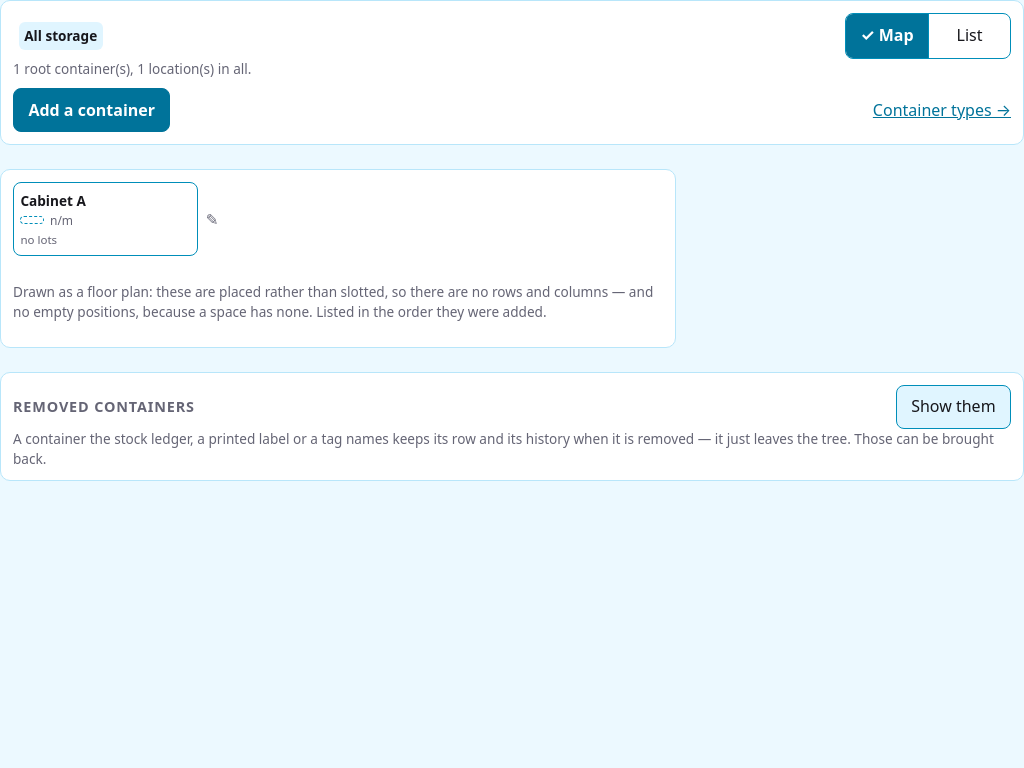
Test: lists a removed container, and links to the page that brings it back
Expected: the button with aria-label "Open: Cabinet A" is shown, [13, 182, 198, 256]
Expected: the text "Cabinet A / Drawer B3" is not shown
Click the button "Show them".
click(953, 407)  # box [896, 385, 1011, 429]
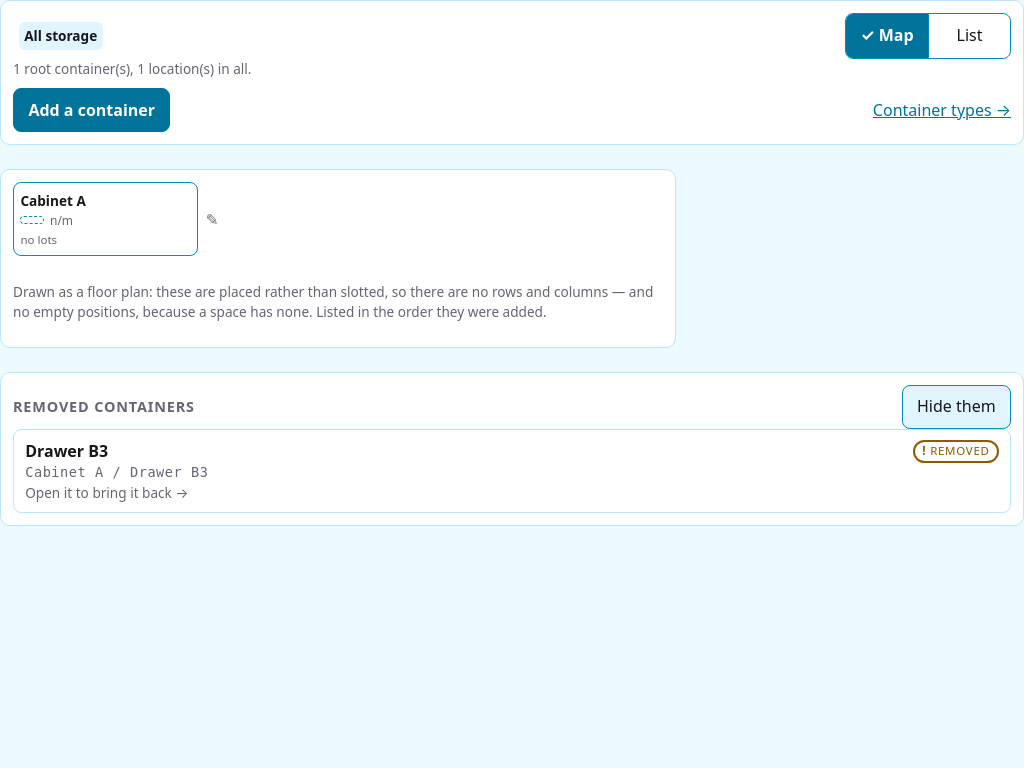
Now the text "Cabinet A / Drawer B3" is shown, box [25, 464, 208, 480]
